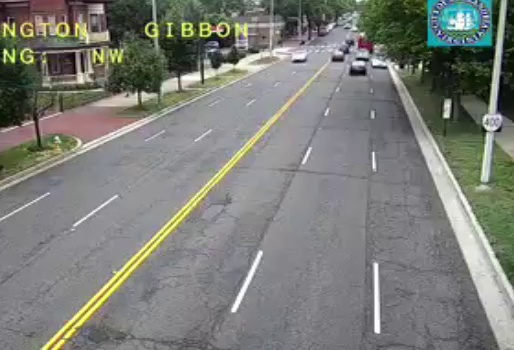car: (350, 60, 367, 75)
